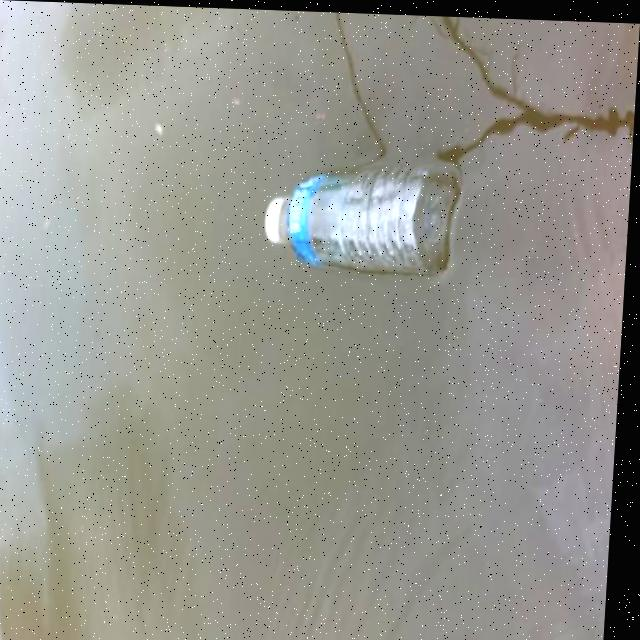waterbottle: (249, 134, 483, 288)
